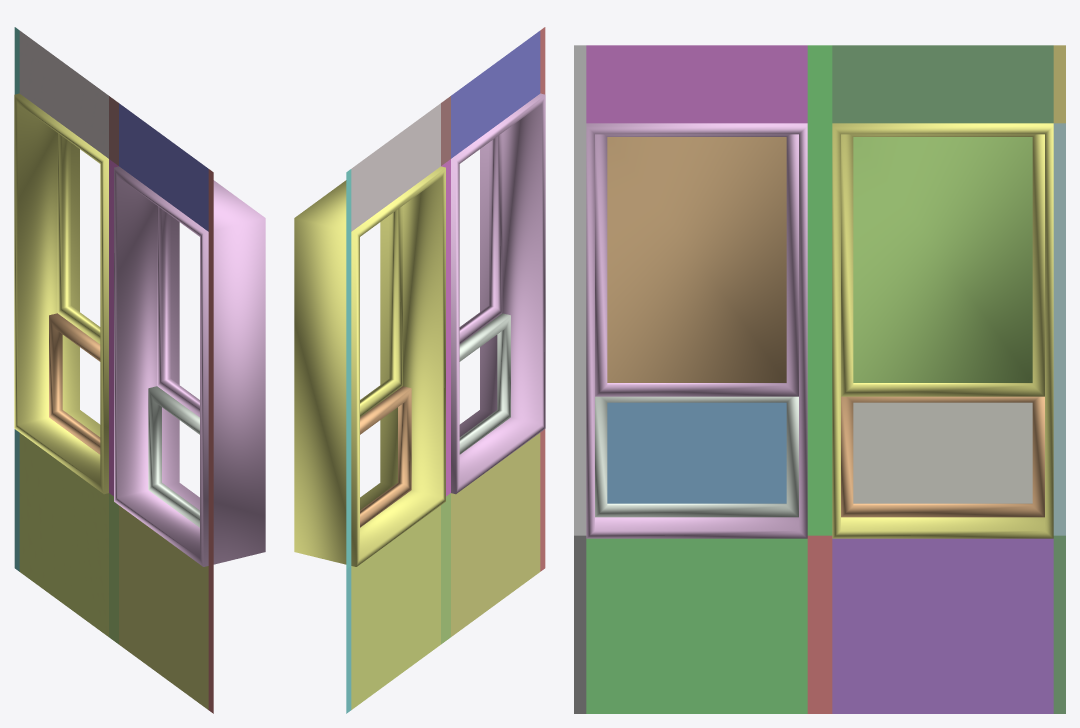
Rendered from SM_window_05_half.gltf.
The picture shows the model from 3 angles, left to right: view 1: azimuth 30°, elevation 25°; view 2: azimuth 150°, elevation 25°; view 3: azimuth 270°, elevation 25°; orthographic projection. The views are drawn at different scales.
Visible parts, largest first — view 1: SM_window_05_half; view 2: SM_window_05_half; view 3: SM_window_05_half.
Boxes of the visible parts, <box> form: SM_window_05_half: <box>14,27,265,713</box>; SM_window_05_half: <box>294,27,545,713</box>; SM_window_05_half: <box>574,45,1065,713</box>.
Size of the model in its own units: 0.36 by 3 by 2.
